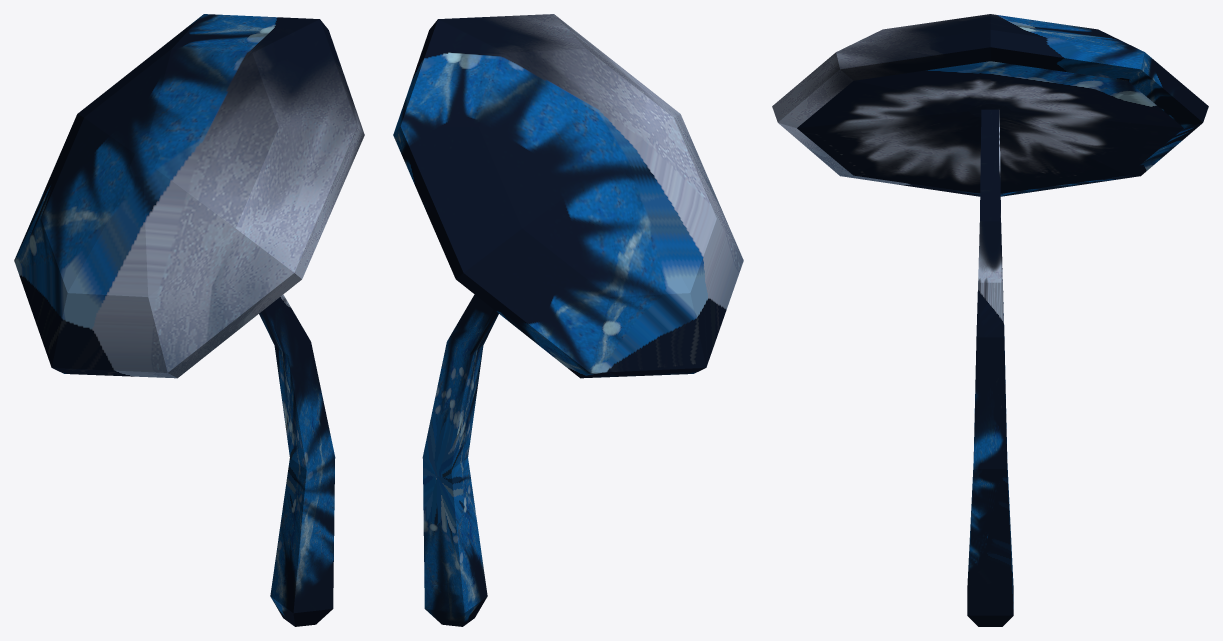
File: ThinMushroom.fbx
The picture shows the model from 3 angles, left to right: view 1: azimuth 30°, elevation 25°; view 2: azimuth 150°, elevation 25°; view 3: azimuth 270°, elevation 25°; orthographic projection.
Parts seen in each view (by area): view 1: ThinMushroom; view 2: ThinMushroom; view 3: ThinMushroom.
Part boxes in pixels (bbox=[...]): ThinMushroom: bbox=[14, 14, 364, 626]; ThinMushroom: bbox=[393, 14, 743, 626]; ThinMushroom: bbox=[772, 14, 1208, 626].
Bounding box in the file's own units: 0.1981 × 0.2688 × 0.4089.
Materials: 1 (1 with a texture image).
